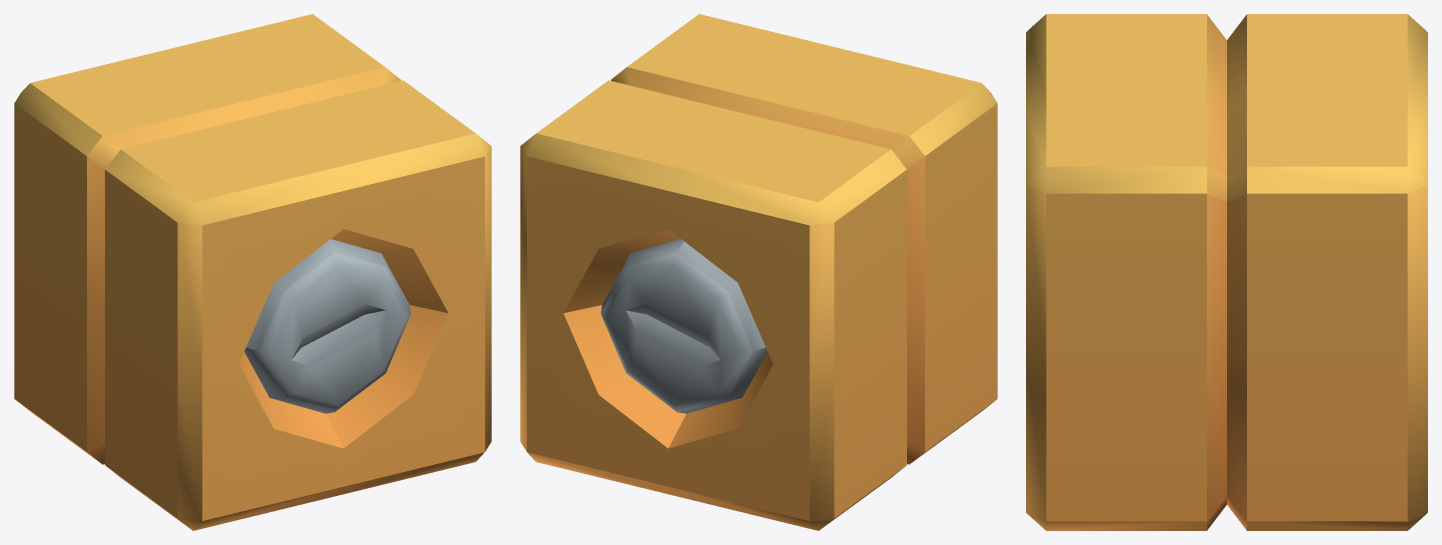
Rendered from platform_decorative_1x1x1_yellow.glb.
3 views of the same model, side by side, from view 1: azimuth 30°, elevation 25°; view 2: azimuth 150°, elevation 25°; view 3: azimuth 270°, elevation 25° (orthographic). The views are drawn at different scales.
Parts seen in each view (by area): view 1: platform_decorative_1x1x1_yellow; view 2: platform_decorative_1x1x1_yellow; view 3: platform_decorative_1x1x1_yellow.
Part boxes in pixels (x1,y1,x2,y2): platform_decorative_1x1x1_yellow: (14, 14, 491, 530); platform_decorative_1x1x1_yellow: (520, 14, 997, 530); platform_decorative_1x1x1_yellow: (1026, 14, 1427, 530).
Size of the model in its own units: 1 by 1 by 1.
Materials: 1 (1 with a texture image).
